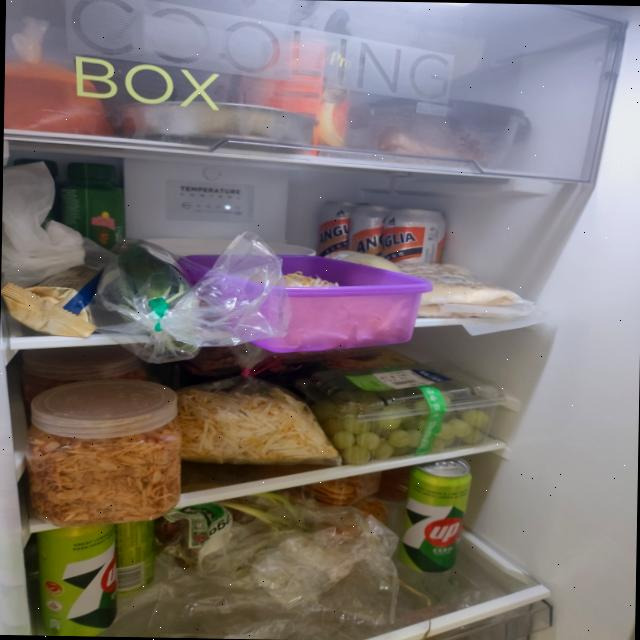bean_sprouts: (174, 385, 339, 466)
grape: (310, 387, 490, 468)
tempeh: (394, 262, 524, 320)
